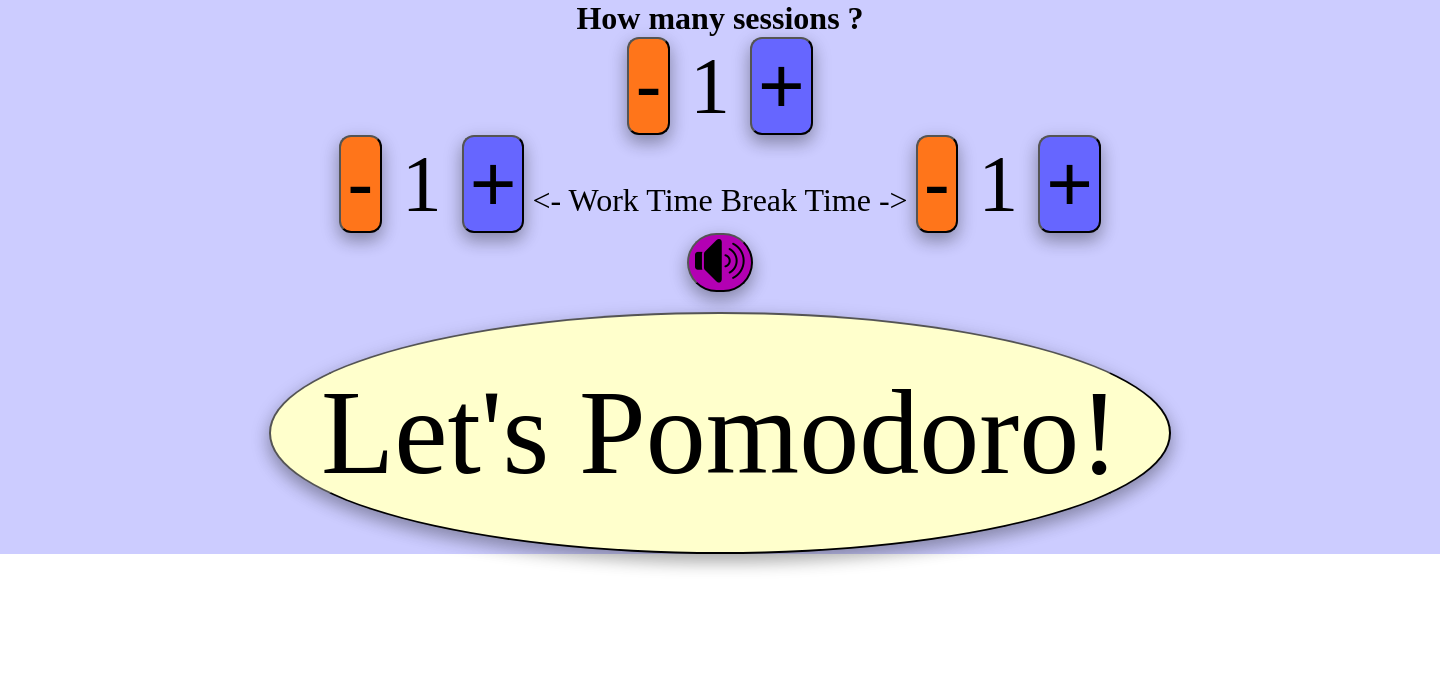
App component › Buttons › should render the timer component on click
The width and height of the screenshot is (1440, 689).
Click the button with class "startButton" at (720, 433), box 269,312 -> 1171,554
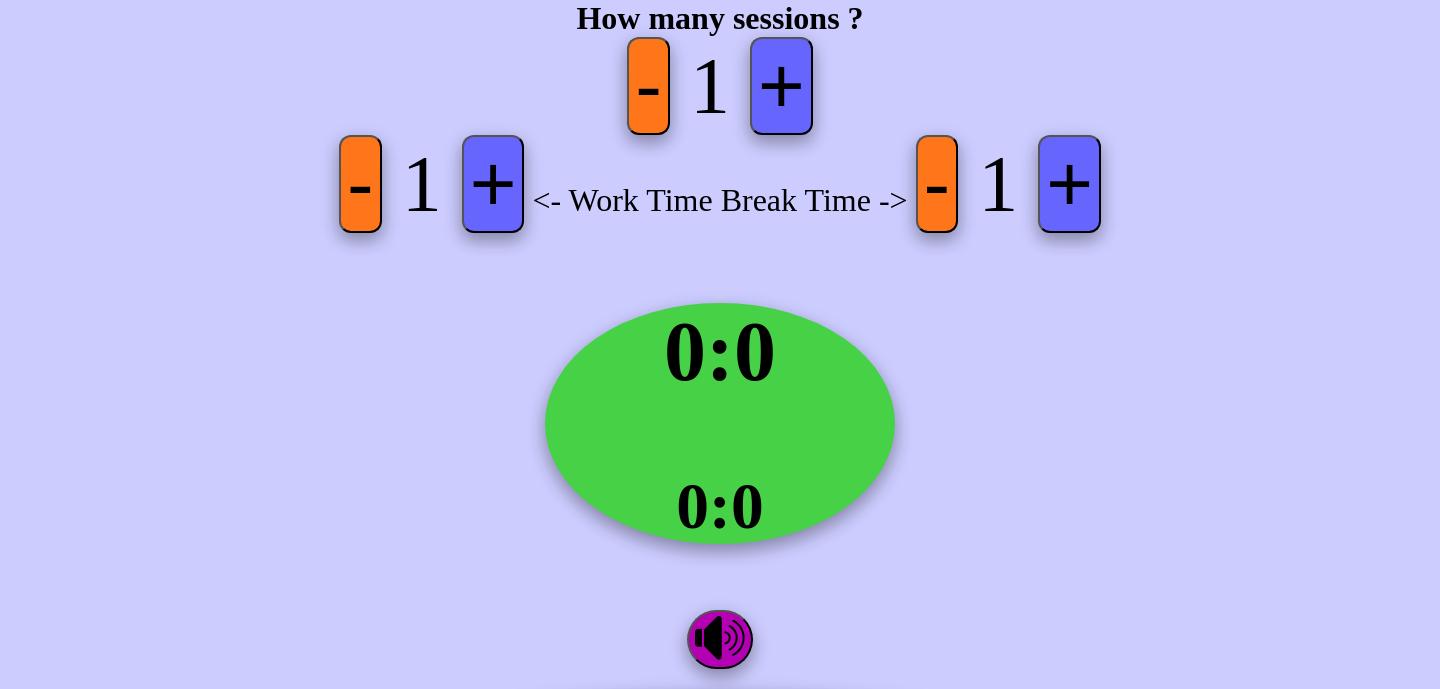
Expected: the element with class "Timer" is shown, 545,303 -> 895,544
